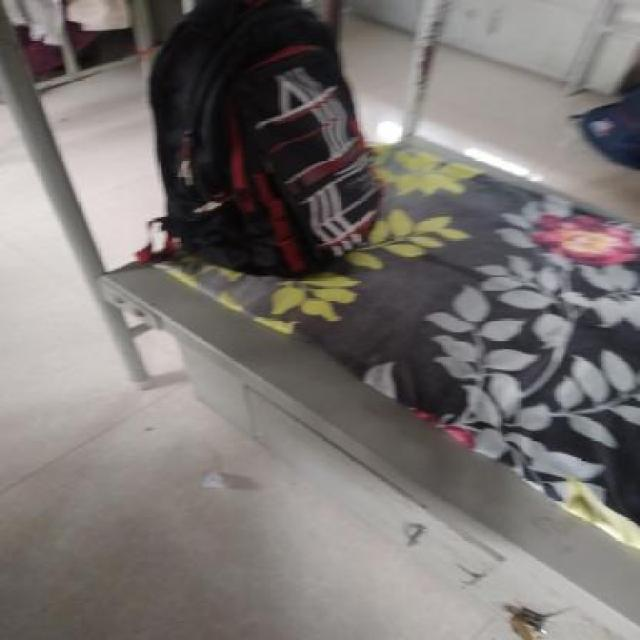backpack: (143, 0, 388, 283)
